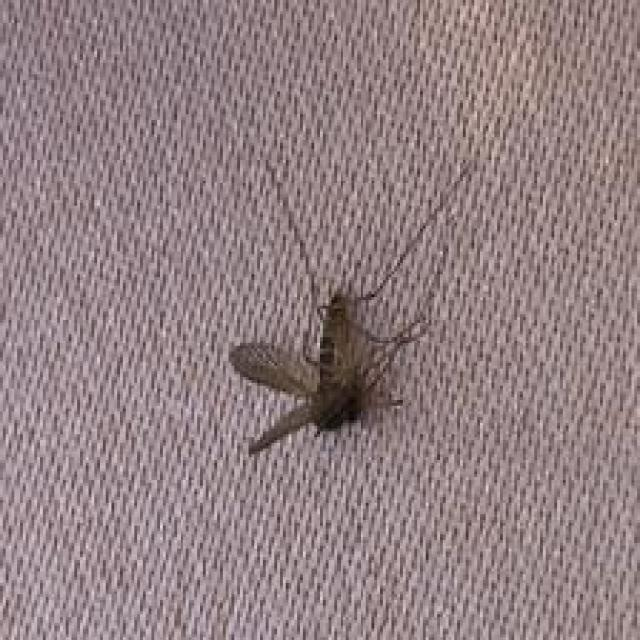Culex: (227, 286, 430, 457)
